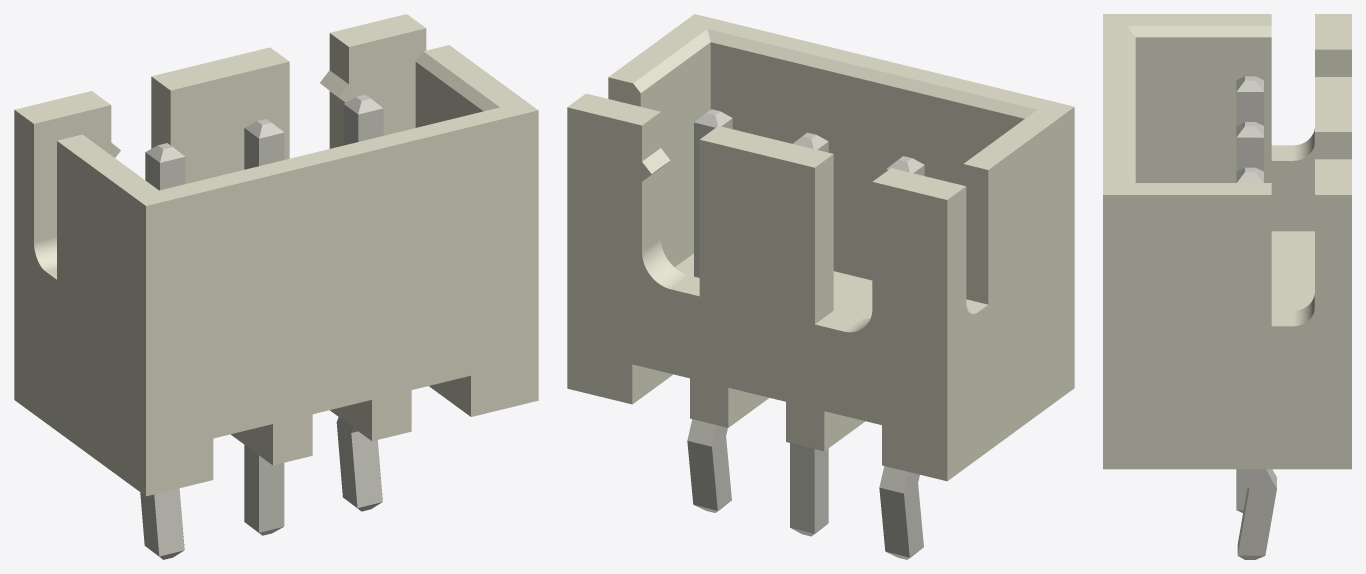
File: jst_xh_b3b_xh_a_1x03_p2_50mm_vertical.glb
3 renders of one model, left to right at view 1: azimuth 30°, elevation 25°; view 2: azimuth 150°, elevation 25°; view 3: azimuth 270°, elevation 25°, orthographic. The views are drawn at different scales.
Parts seen in each view (by area): view 1: conn_jst_xh_3p, pin_3, pin_2, pin_1; view 2: conn_jst_xh_3p, pin_3, pin_1, pin_2; view 3: conn_jst_xh_3p, pin_3, pin_2.
Part boxes in pixels (box(x1,y1,x2,y2)): conn_jst_xh_3p: box(14, 14, 538, 496); pin_3: box(336, 417, 382, 511); pin_2: box(244, 445, 284, 535); pin_1: box(140, 488, 184, 559); conn_jst_xh_3p: box(567, 14, 1074, 481); pin_3: box(687, 419, 731, 512); pin_1: box(879, 466, 923, 559); pin_2: box(790, 443, 828, 536); conn_jst_xh_3p: box(1103, 14, 1351, 469); pin_3: box(1237, 469, 1276, 559); pin_2: box(1236, 469, 1247, 512).
Size of the model in its own units: 0.0099 by 0.0104 by 0.00575.
